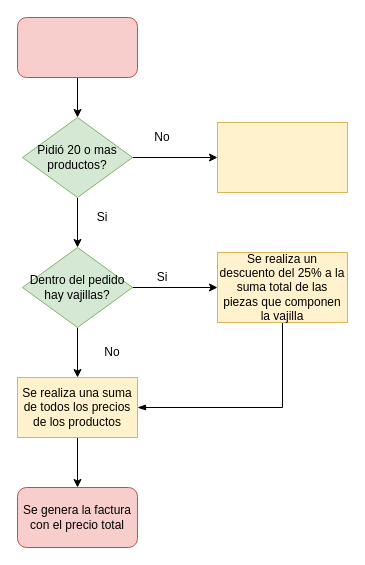
The diagram is 365 pixels wide and 565 high, and some of its shapes have lost their labels. Here are the shapes that lost their labels. From the top down, the centre of each, then its label:
point (77, 47): El cliente realiza un pedido
point (282, 157): Imprimir un mensaje de alerta que le notifique que son mínimo 20 productos
